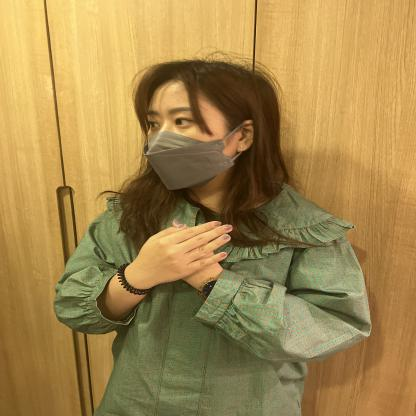Grieve: (79, 211, 326, 306)
